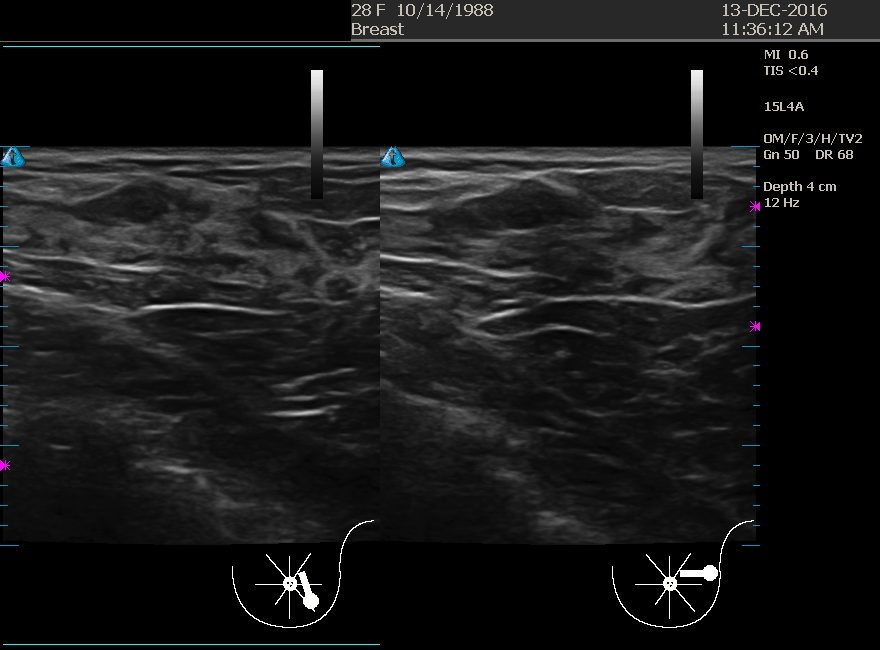Benign: (37, 155, 237, 355), (411, 159, 611, 359)
